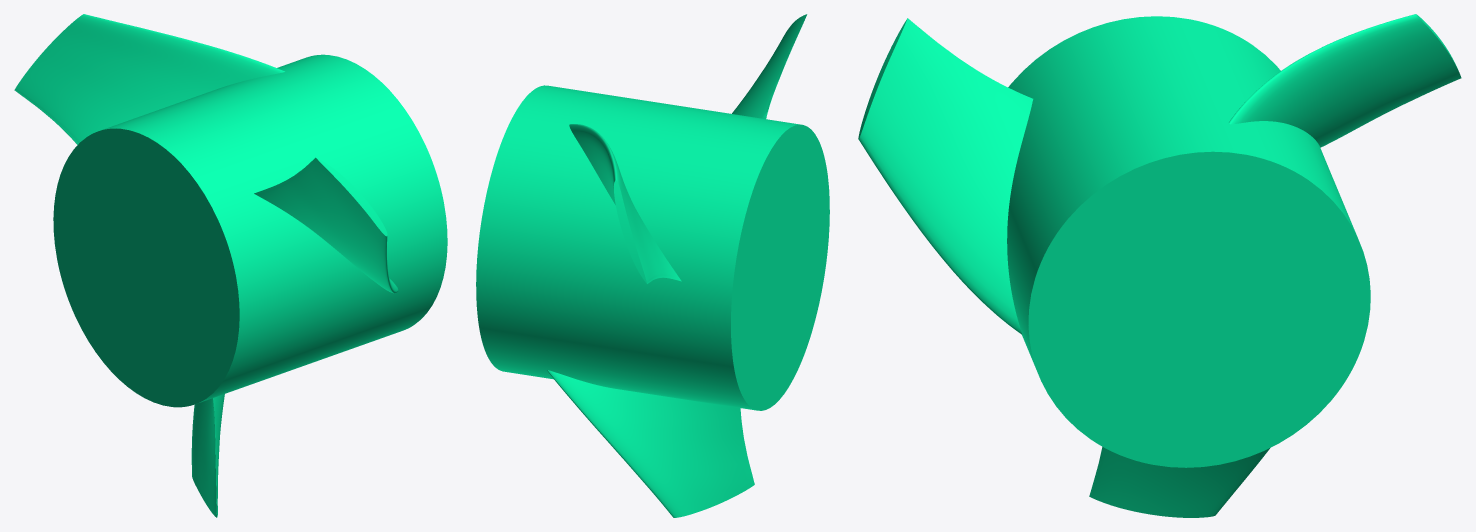
File: puffin_propeller_port.dae
3 renders of one model, left to right at view 1: azimuth 30°, elevation 25°; view 2: azimuth 150°, elevation 25°; view 3: azimuth 270°, elevation 25°, orthographic. The views are drawn at different scales.
Parts seen in each view (by area): view 1: PUBLICT200-P-PROPELLER-CW-XJ3-3-solid1; view 2: PUBLICT200-P-PROPELLER-CW-XJ3-3-solid1; view 3: PUBLICT200-P-PROPELLER-CW-XJ3-3-solid1.
Part boxes in pixels (<box>): PUBLICT200-P-PROPELLER-CW-XJ3-3-solid1: <box>14,14,447,517</box>; PUBLICT200-P-PROPELLER-CW-XJ3-3-solid1: <box>476,14,829,517</box>; PUBLICT200-P-PROPELLER-CW-XJ3-3-solid1: <box>858,14,1461,517</box>.
Bounding box in the file's own units: 35.12 × 55.61 × 50.65.
